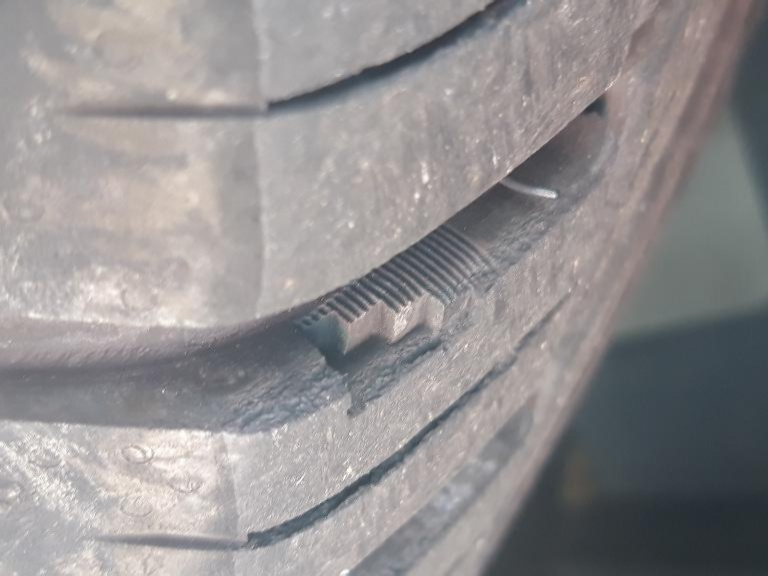temoin:80: (280, 217, 513, 431)
